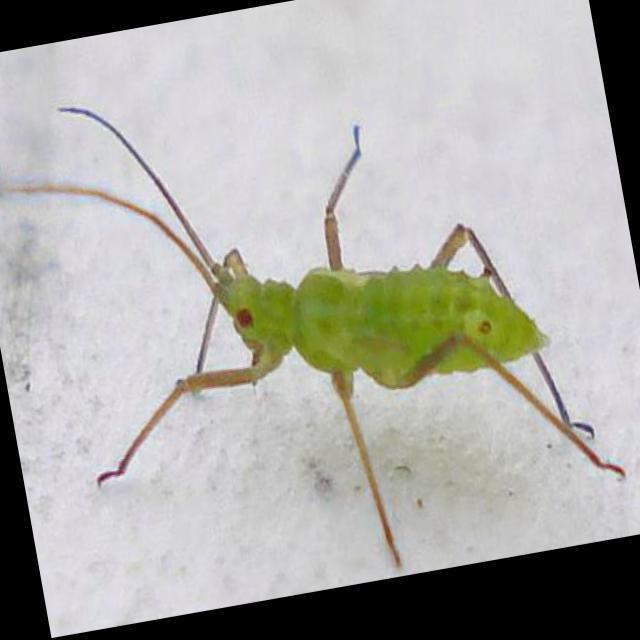aphid: (0, 1, 637, 611)
